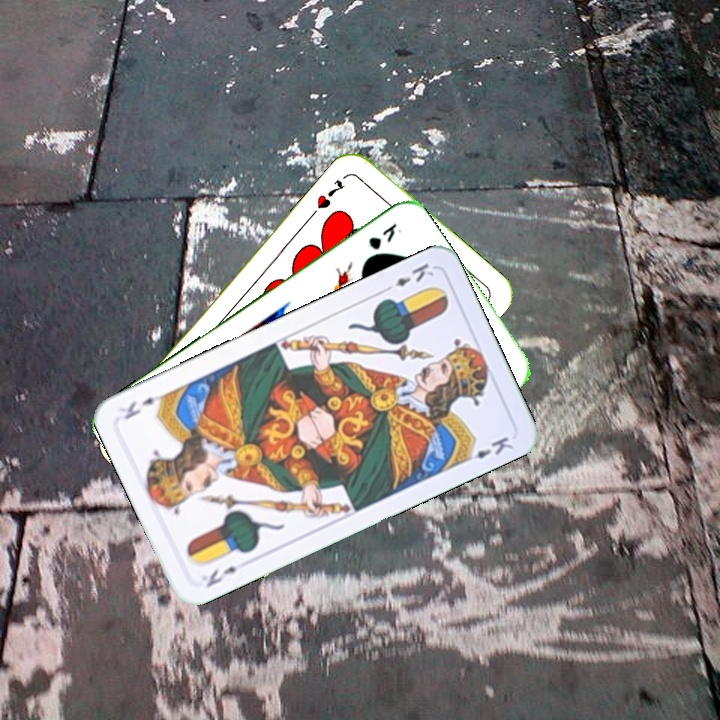EK: (379, 259, 437, 295), (202, 562, 240, 591)
GK: (364, 219, 404, 253)
H7: (312, 175, 348, 212)
